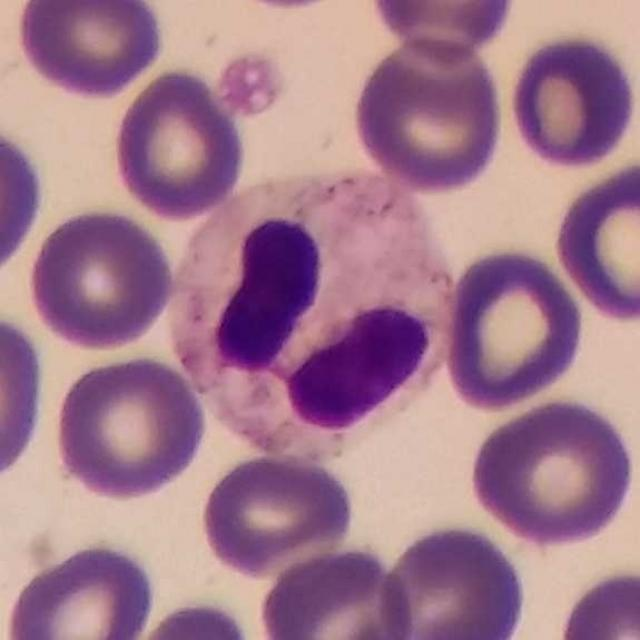Neutrophil: (160, 157, 466, 472)
Platelets: (216, 48, 288, 119)
RBC: (464, 393, 639, 551), (438, 242, 589, 414), (350, 33, 508, 196), (49, 351, 211, 503), (23, 203, 178, 354), (108, 65, 249, 222), (196, 450, 358, 578), (504, 29, 640, 172), (375, 517, 532, 640), (1, 535, 160, 640), (12, 0, 168, 101), (255, 542, 415, 640), (550, 157, 640, 326), (365, 0, 521, 63), (0, 306, 50, 491), (0, 119, 49, 285), (552, 564, 640, 640), (119, 595, 259, 640), (211, 0, 365, 13)
